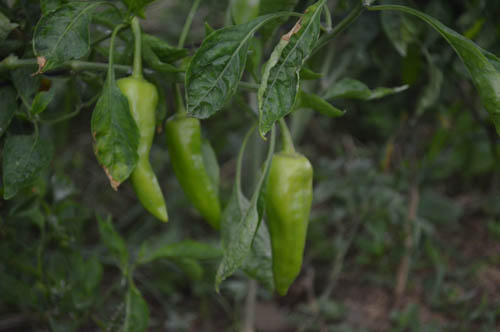ChiliPepper: (112, 78, 168, 225), (261, 152, 311, 291), (164, 117, 223, 227)
